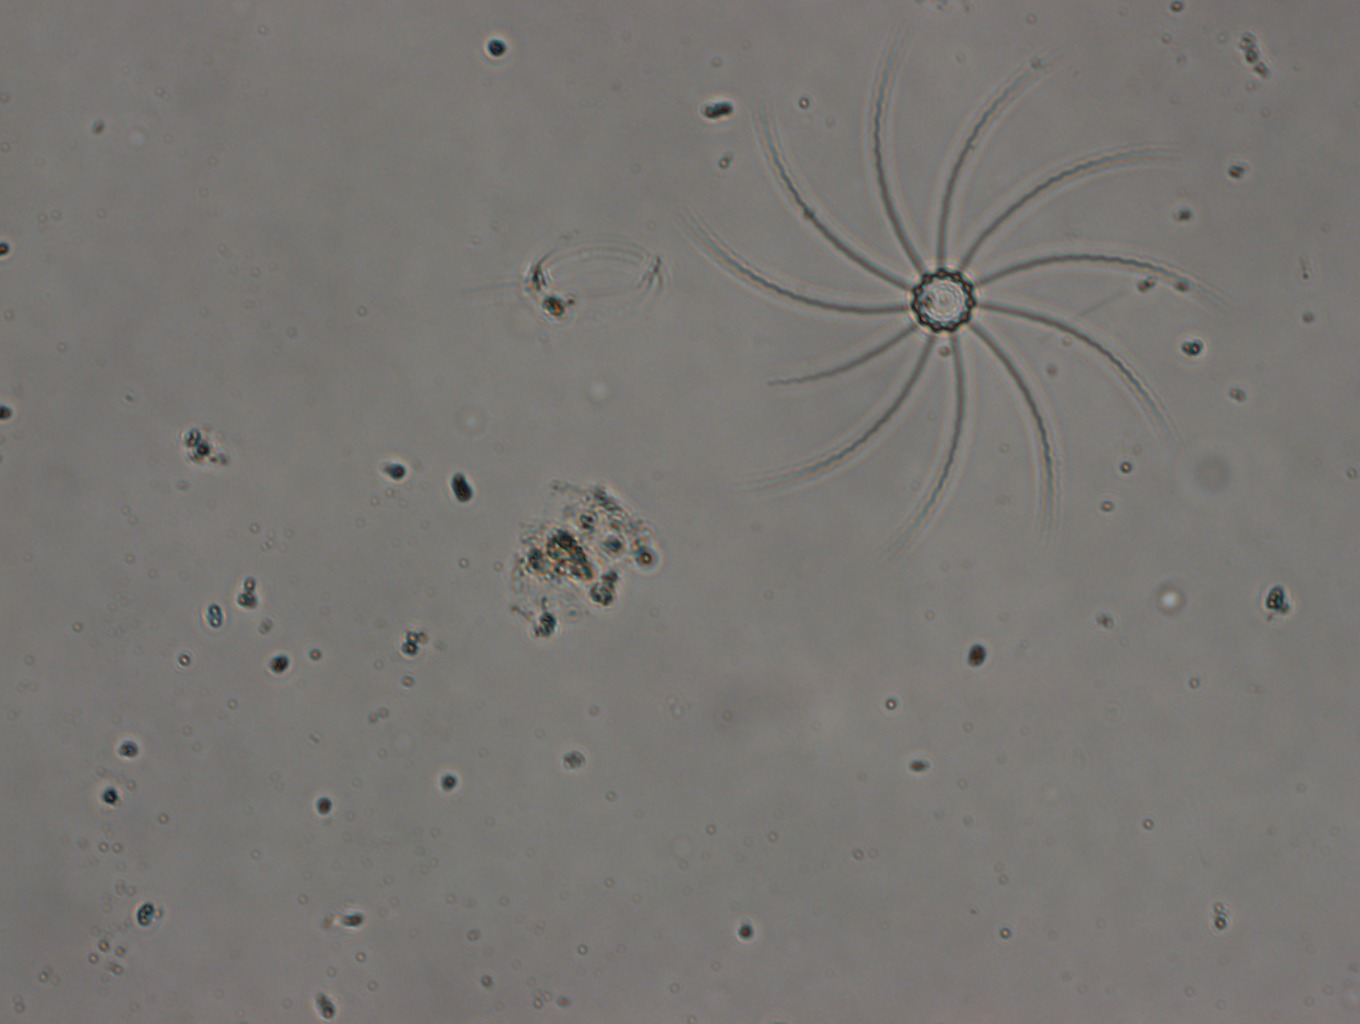bacteriastrum: (679, 40, 1219, 557)
chaetoceros: (443, 240, 670, 324)
